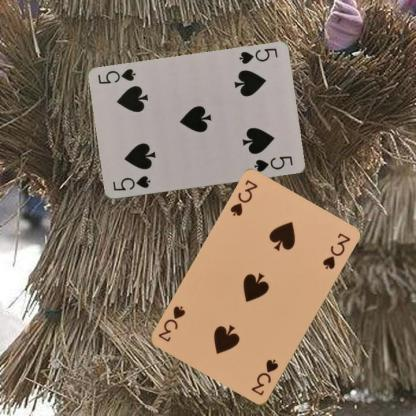3s: (227, 177, 259, 218), (249, 356, 280, 398)
5s: (236, 46, 279, 66), (110, 174, 152, 192)
